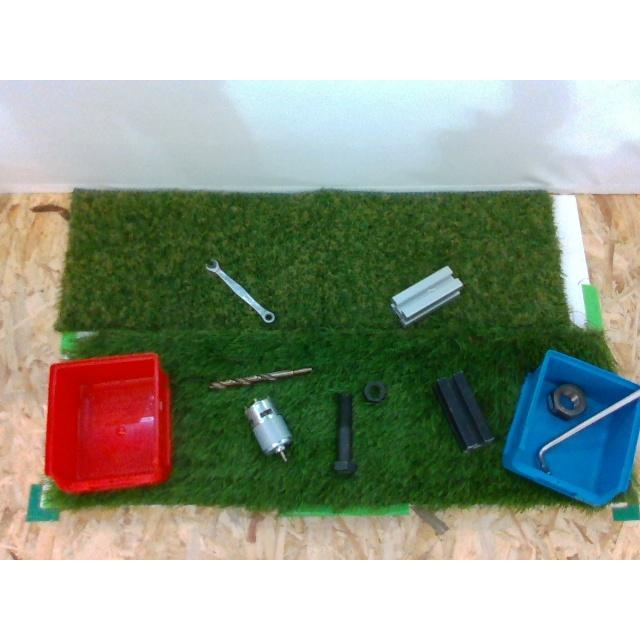AllenKey: (536, 388, 640, 472)
Drill: (208, 367, 312, 389)
M20: (363, 381, 387, 403)
M20_100: (332, 394, 356, 474)
M30: (547, 382, 587, 418)
Motor2: (244, 398, 292, 462)
S40_40_B: (436, 372, 494, 452)
S40_40_G: (391, 266, 462, 326)
Wrench: (206, 260, 274, 324)
container_box_blue: (502, 351, 638, 505)
container_box_red: (45, 352, 171, 492)
